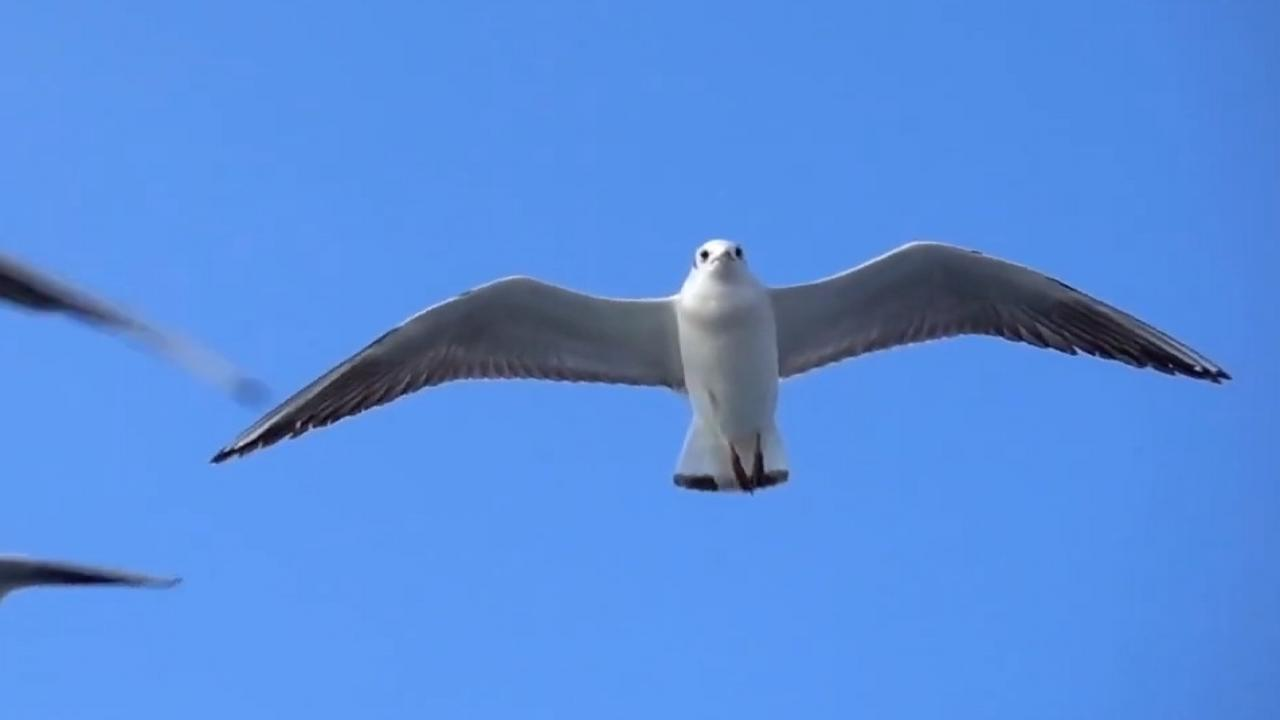Bird: (200, 227, 1242, 508)
